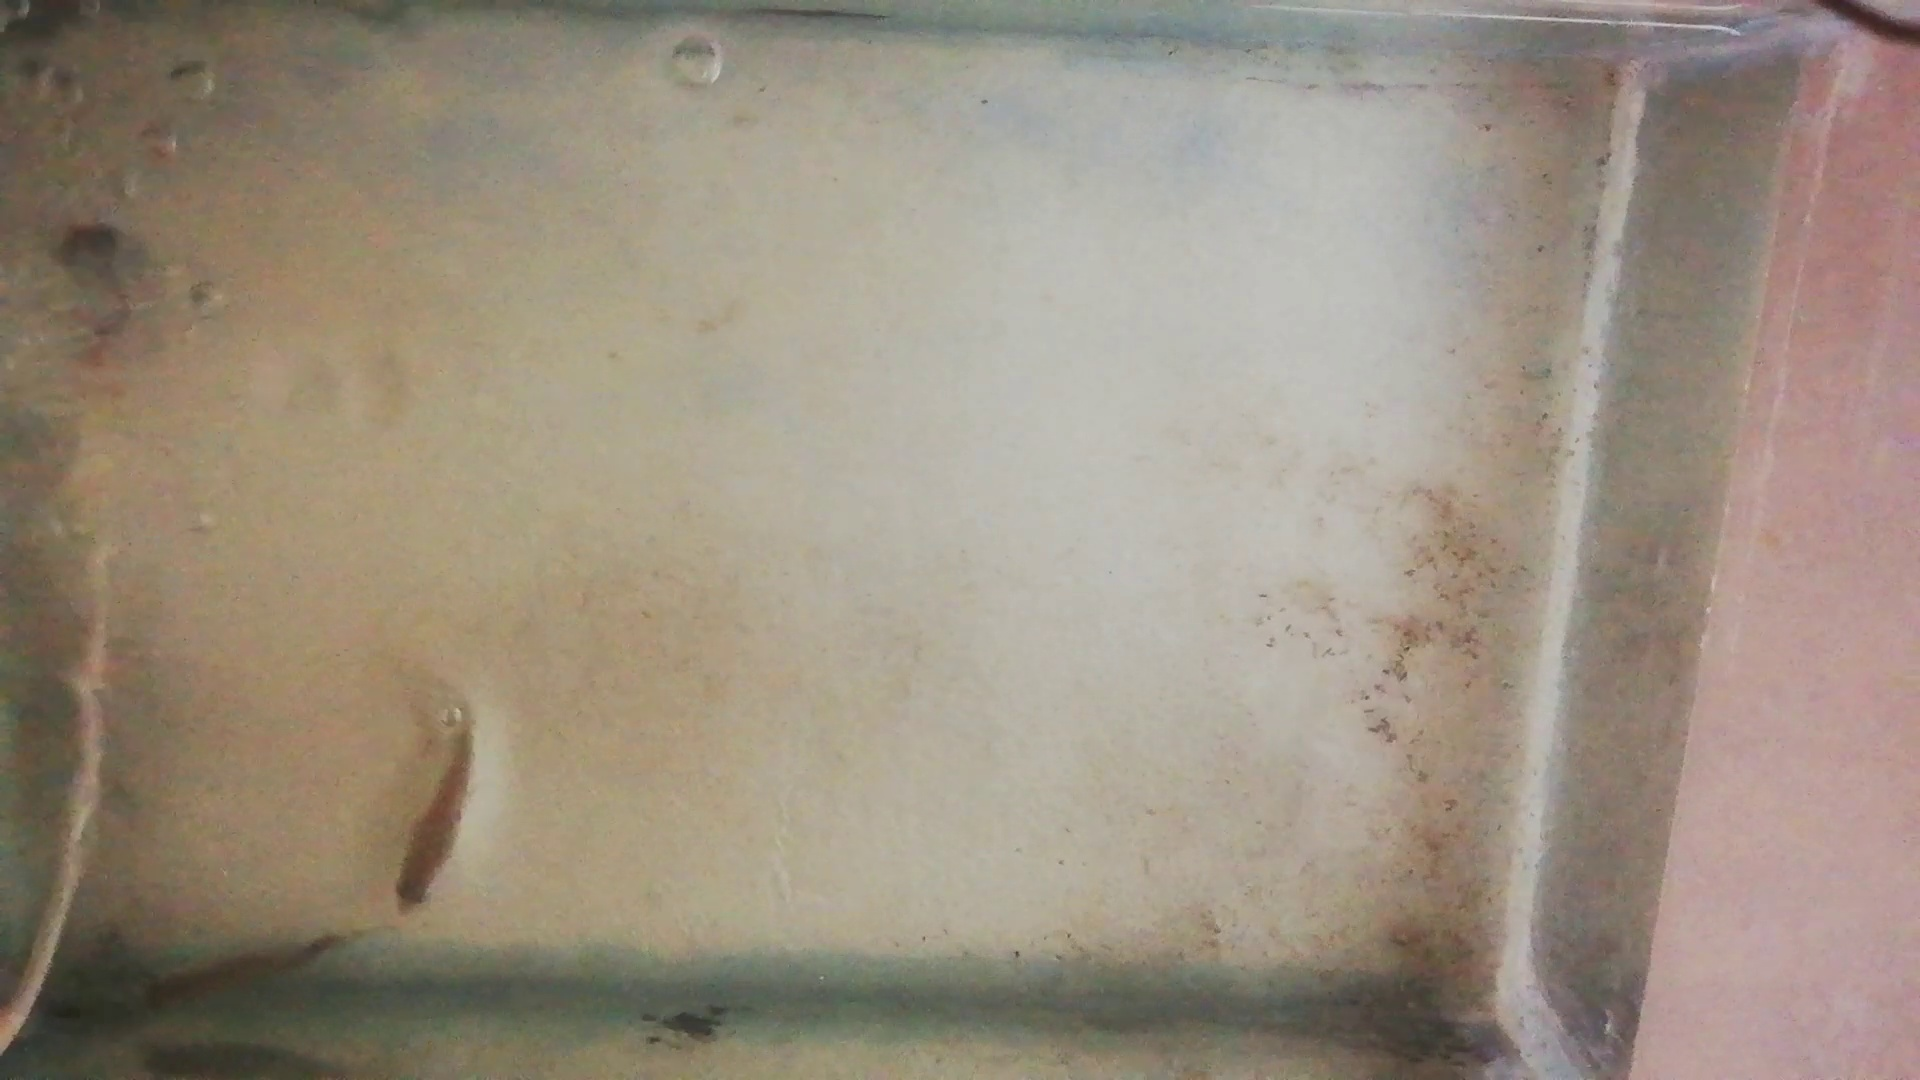fish: (392, 727, 473, 916), (149, 935, 340, 1009)
